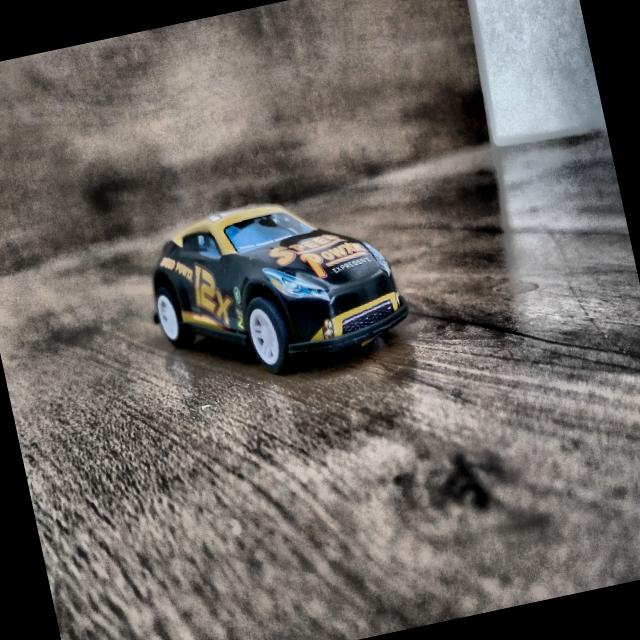Car: (131, 172, 416, 396)
